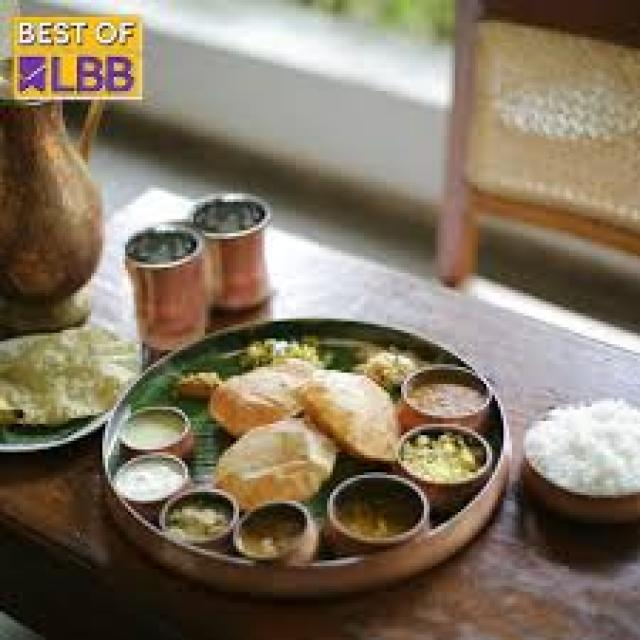curd: (110, 455, 192, 503)
dal: (398, 375, 491, 422)
papad: (2, 321, 141, 439)
raita: (109, 456, 195, 504)
rice: (529, 401, 638, 506)
roti: (202, 357, 395, 480)
sweet: (398, 425, 497, 495)
